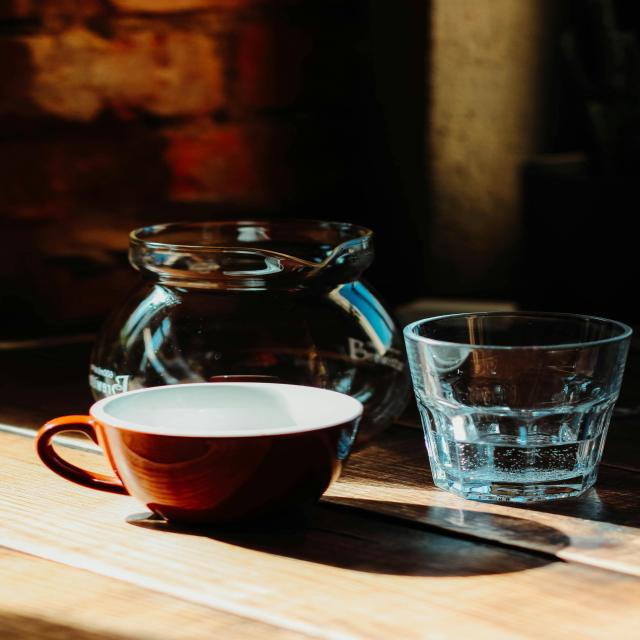Red_cup: (36, 383, 361, 522)
